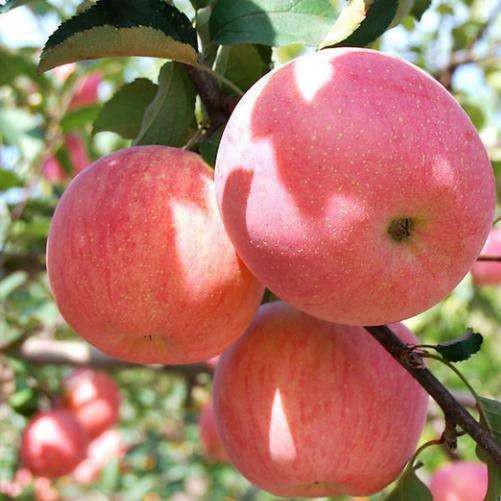apple: (211, 47, 498, 323), (46, 146, 264, 363), (211, 303, 422, 494)
